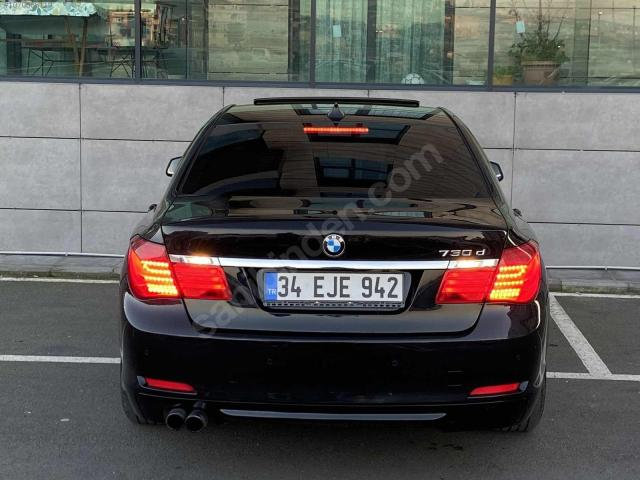plaka: (258, 271, 409, 308)
